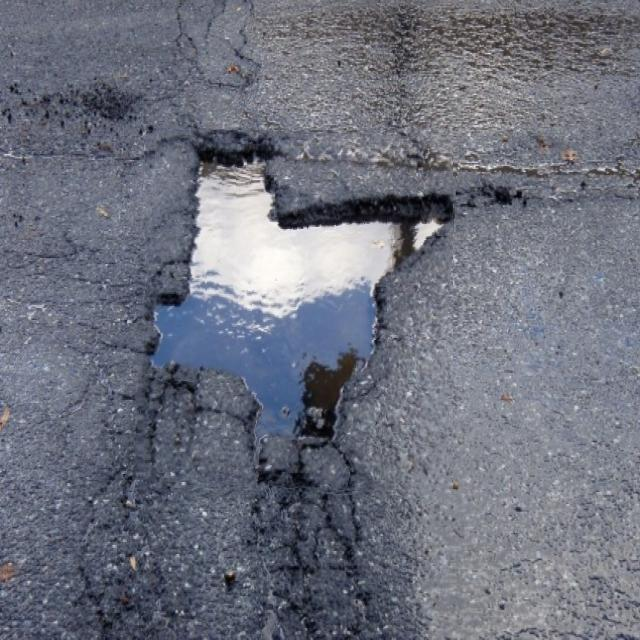Pothole: (138, 130, 453, 497)
